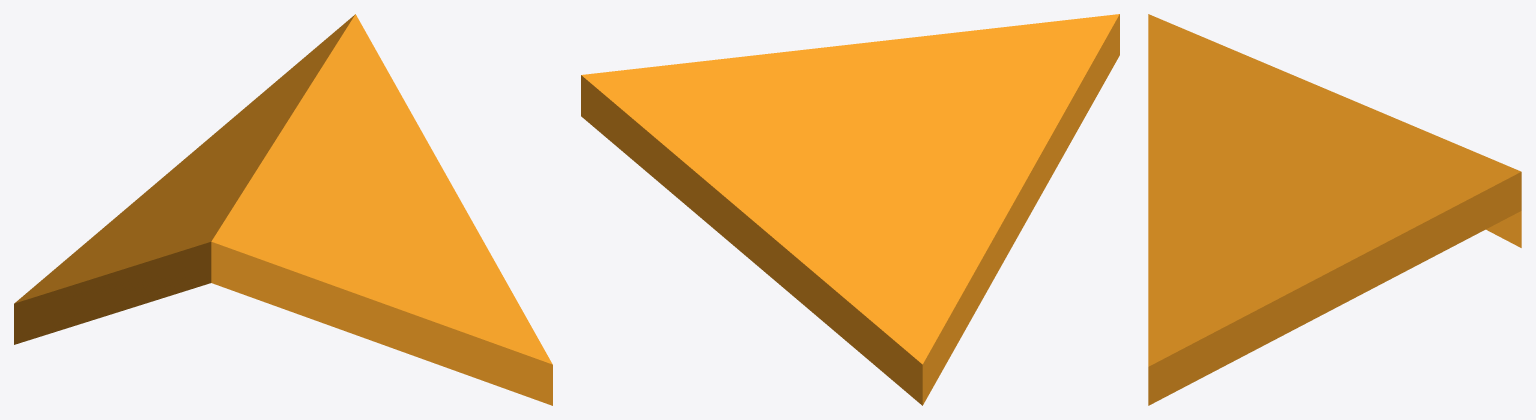
Rendered from SM_Buildings_RoofAngledCornerMiddle_1x1_01.fbx.
3 renders of one model, left to right at view 1: azimuth 30°, elevation 25°; view 2: azimuth 150°, elevation 25°; view 3: azimuth 270°, elevation 25°, orthographic. The views are drawn at different scales.
Parts seen in each view (by area): view 1: SM_Buildings_RoofAngledCornerMiddle_1x1_01; view 2: SM_Buildings_RoofAngledCornerMiddle_1x1_01; view 3: SM_Buildings_RoofAngledCornerMiddle_1x1_01.
Part boxes in pixels (x1,y1,x2,y2): SM_Buildings_RoofAngledCornerMiddle_1x1_01: [14, 14, 552, 405]; SM_Buildings_RoofAngledCornerMiddle_1x1_01: [581, 14, 1119, 405]; SM_Buildings_RoofAngledCornerMiddle_1x1_01: [1148, 14, 1521, 405].
Bounding box in the file's own units: 100 × 69.29 × 100.
